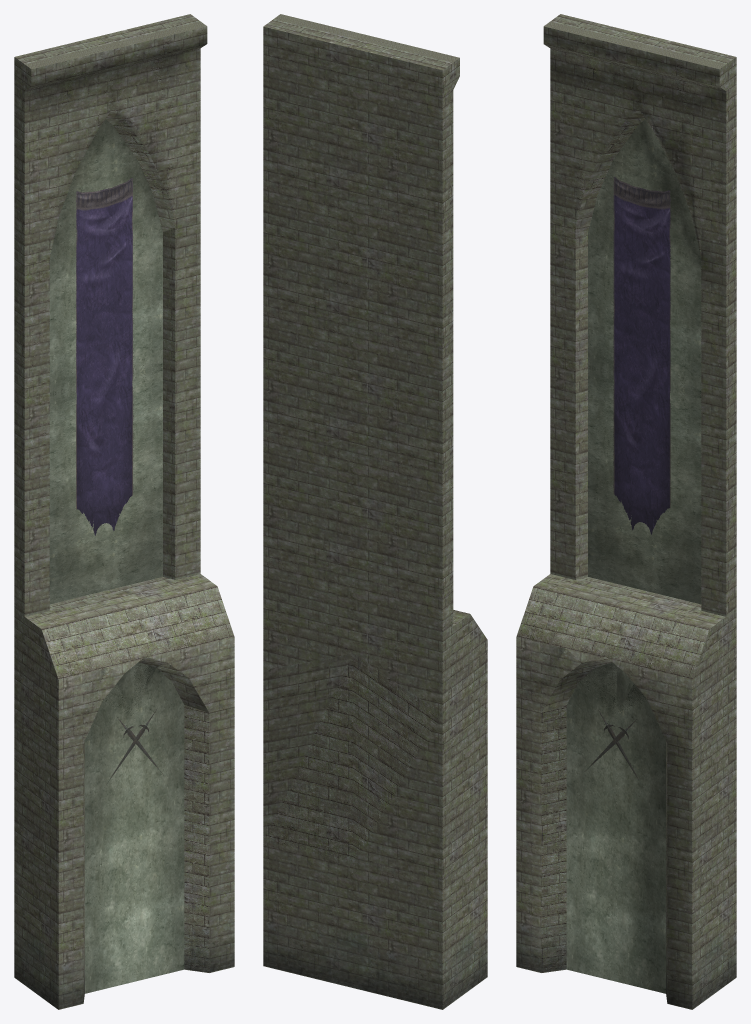
The model's file is ArchedBlock_lod.fbx.
3 renders of one model, left to right at view 1: azimuth 30°, elevation 25°; view 2: azimuth 150°, elevation 25°; view 3: azimuth 330°, elevation 25°, orthographic. The views are drawn at different scales.
Visible parts, largest first — view 1: Mesh Object; view 2: Mesh Object; view 3: Mesh Object.
Boxes of the visible parts, box(x1,y1,x2,y2) form: Mesh Object: box(14, 14, 234, 1009); Mesh Object: box(263, 14, 487, 1009); Mesh Object: box(516, 14, 736, 1009).
Bounding box in the file's own units: 3 × 15.03 × 1.31.
